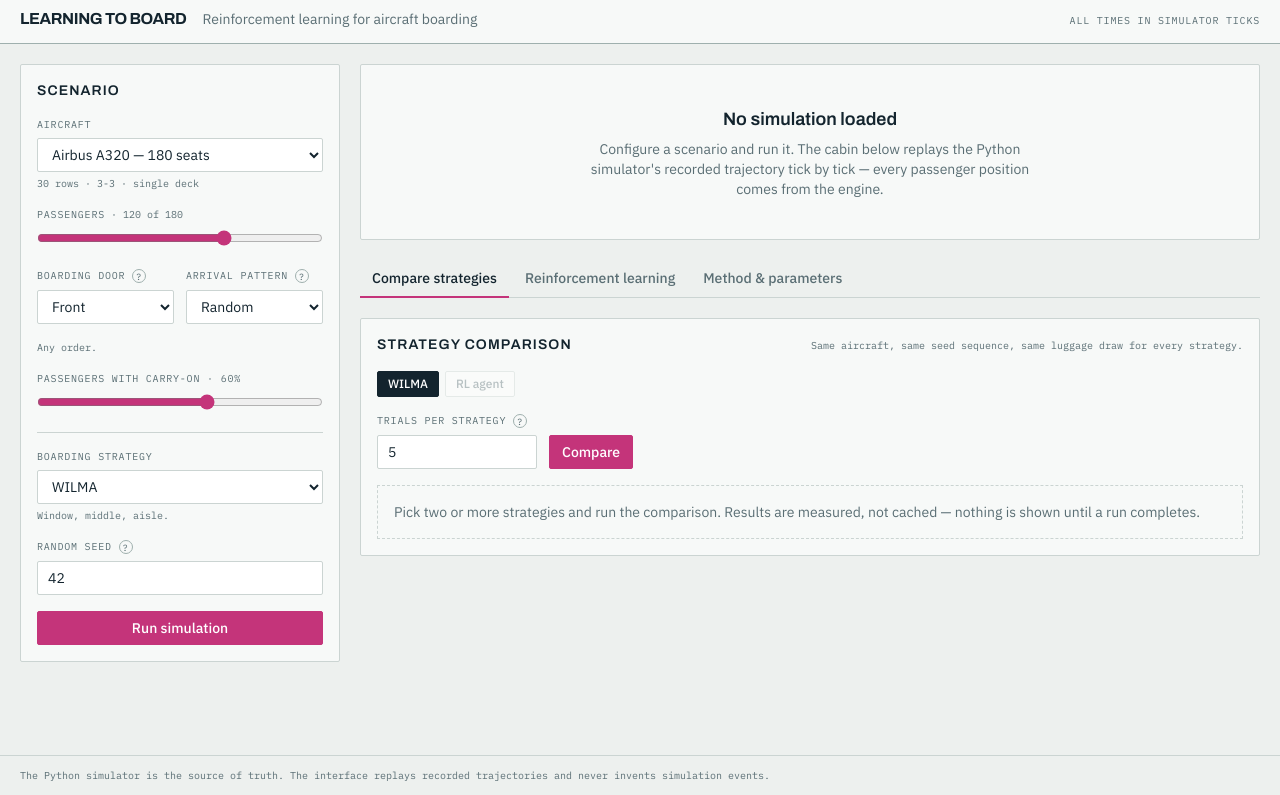
Test: App › runs a simulation and shows metrics from the response
Click the button "Run simulation".
click(180, 628)  # box [37,611,323,645]
(page scrolled)
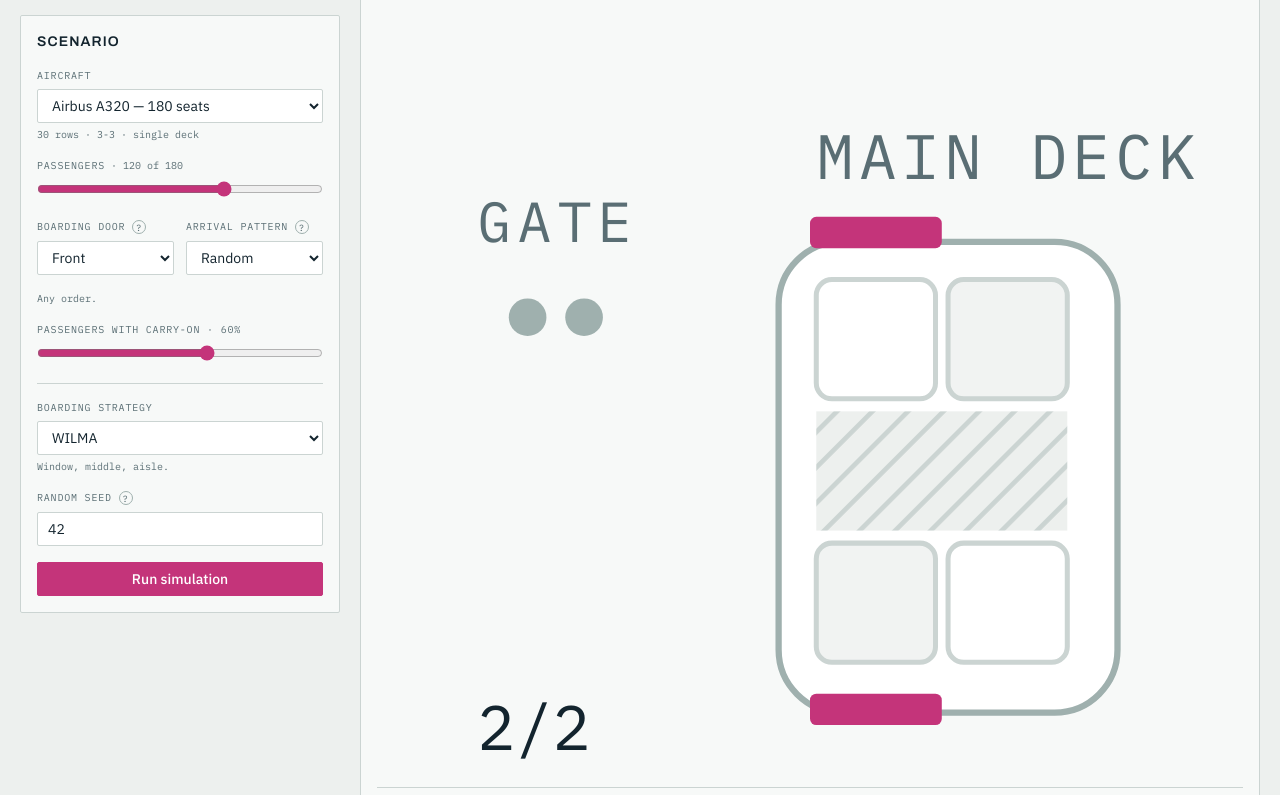
Result: the picture named "Aircraft cabin plan" is shown
